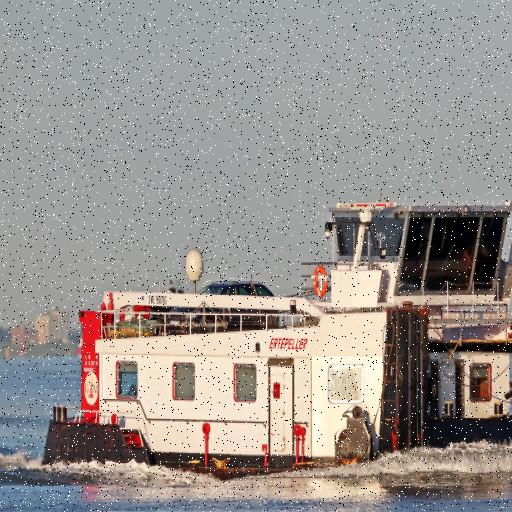tugboat: (31, 198, 512, 499)
